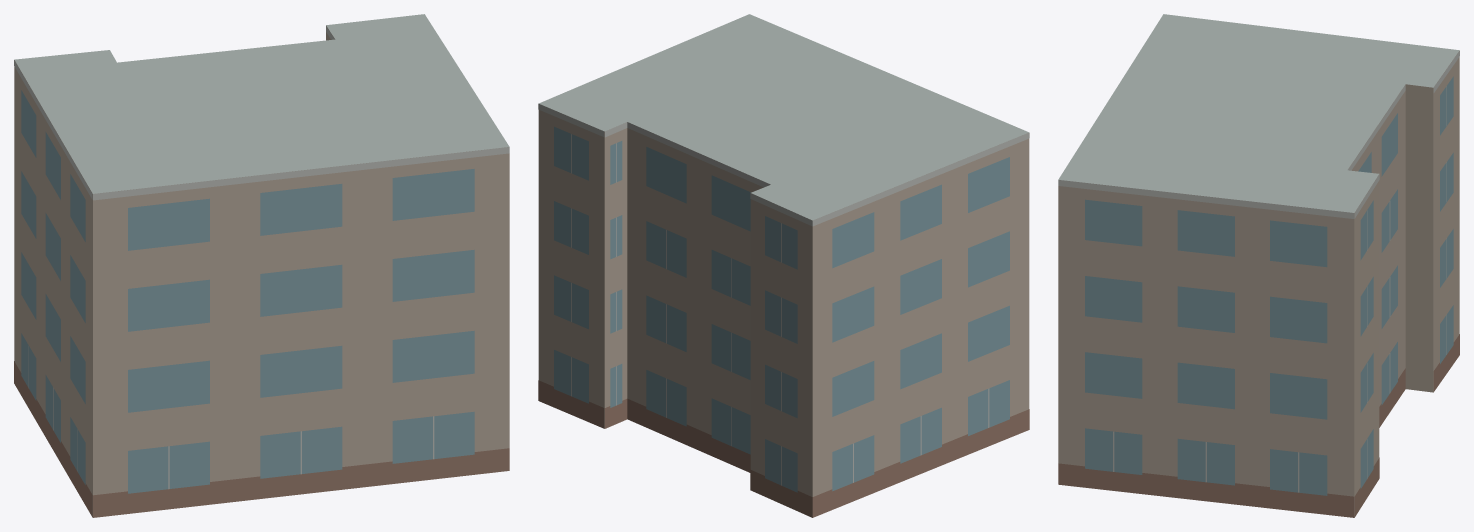
File: survey-upis-32767125.glb
3 renders of one model, left to right at view 1: azimuth 30°, elevation 25°; view 2: azimuth 150°, elevation 25°; view 3: azimuth 270°, elevation 25°, orthographic. The views are drawn at different scales.
Parts seen in each view (by area): view 1: survey-upis-32767125.tmp; view 2: survey-upis-32767125.tmp; view 3: survey-upis-32767125.tmp.
Part boxes in pixels (x1,y1,x2,y2): survey-upis-32767125.tmp: [14, 14, 509, 517]; survey-upis-32767125.tmp: [538, 14, 1029, 517]; survey-upis-32767125.tmp: [1058, 14, 1459, 517].
Bounding box in the file's own units: 16.95 × 12.1 × 14.45.
